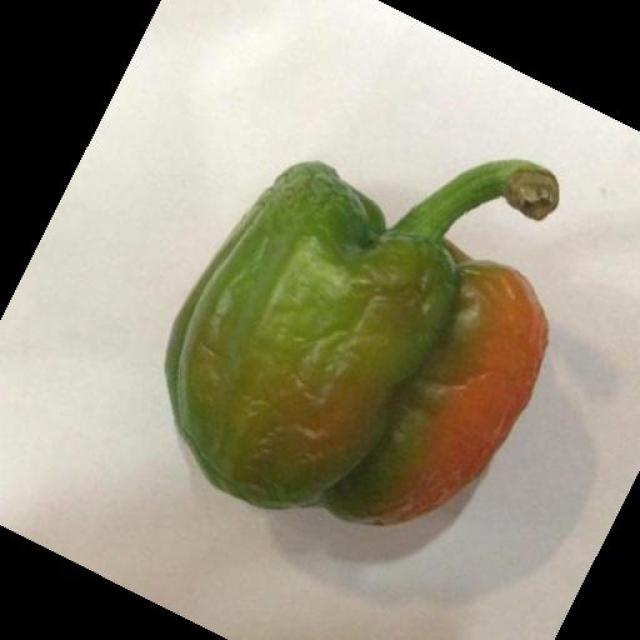Stale_Capsicum: (199, 138, 549, 562)
